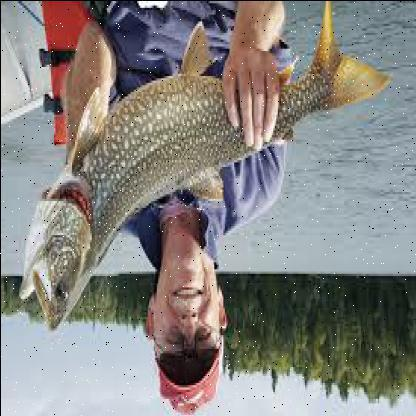fish: (20, 9, 390, 337)
